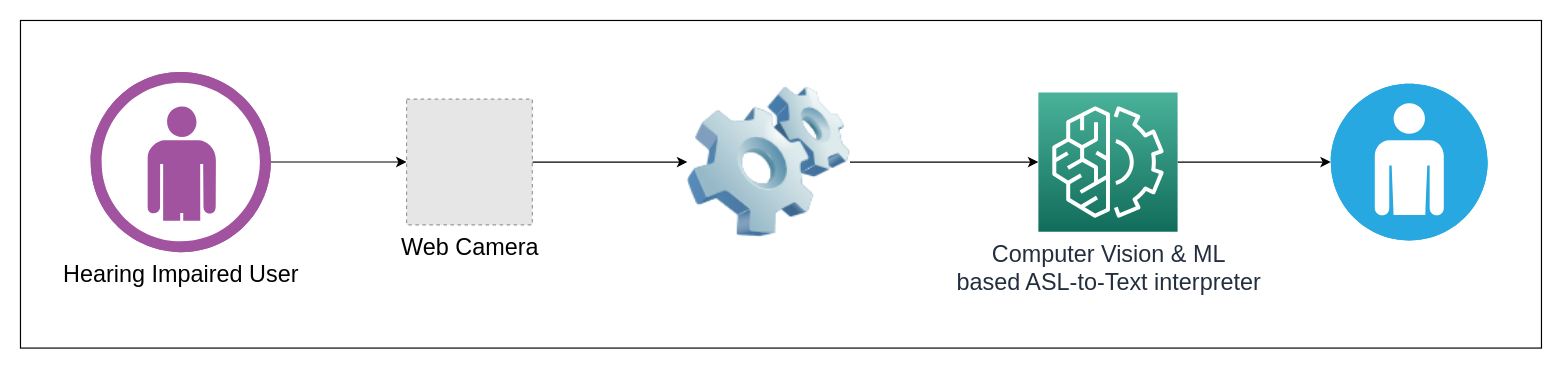
Some shapes in this 1562 by 369 pixel diagram are drawn without their labels. Grey dashed boxes stand in for pictures. Here are the shapes that lost their labels. From the top down, the centre of each, then its label:
the point at 768,161: Developed Application
the point at 1409,161: Normal User
